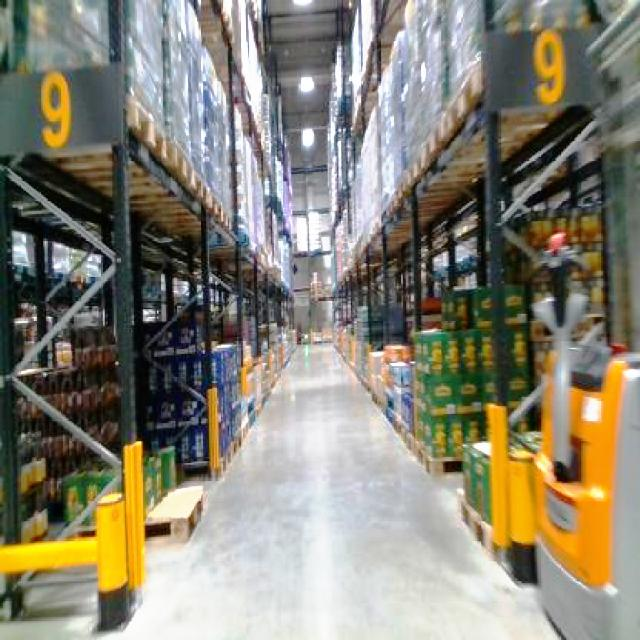ground: (0, 338, 588, 638)
pallet: (329, 0, 638, 638), (0, 320, 294, 632), (332, 280, 600, 475), (0, 440, 203, 631), (0, 323, 123, 546), (409, 282, 535, 474), (457, 402, 542, 582), (143, 483, 203, 542)
